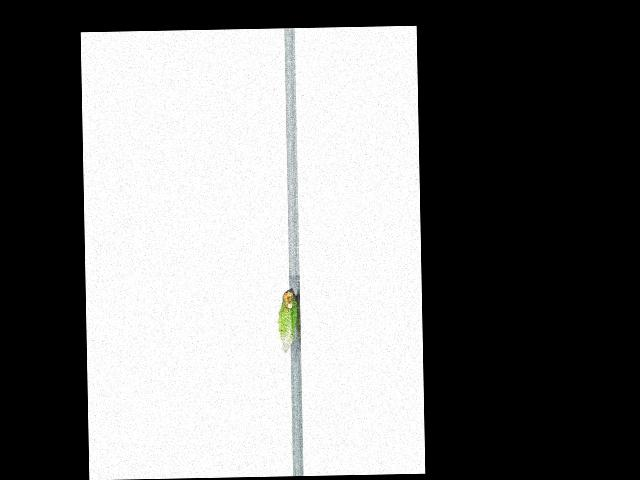lettuce: (274, 285, 301, 353)
